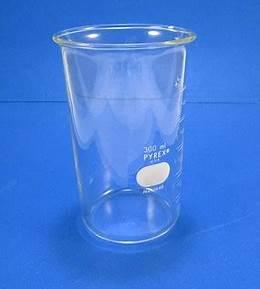Beaker: (45, 29, 189, 244)
